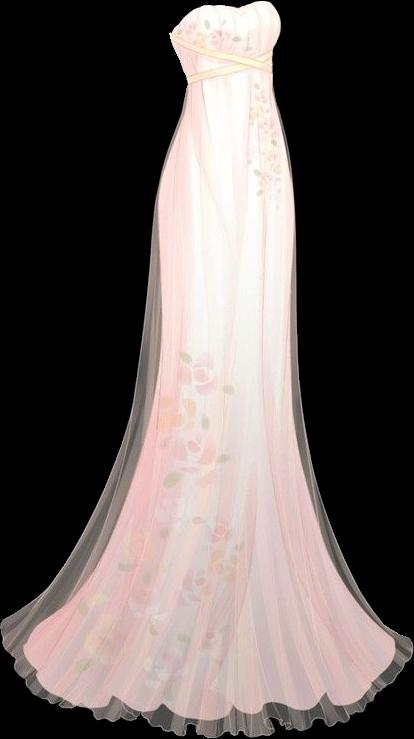Bodice: (169, 1, 280, 83)
Hemline: (0, 618, 413, 738)
Neckline: (167, 0, 273, 37)
Skirt: (0, 69, 413, 738)
Waistline: (187, 60, 277, 87)
